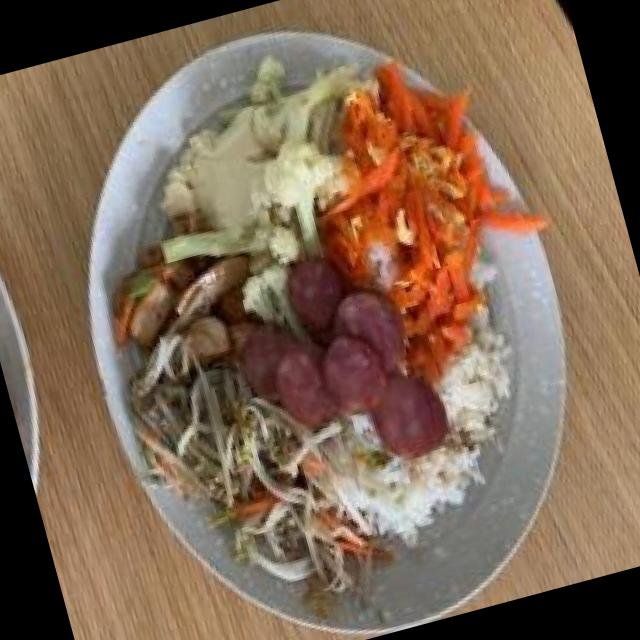carrot_eggs: (322, 59, 509, 298)
chinese_sausage: (224, 234, 455, 493)
mung_bean_sprouts: (117, 310, 347, 608)
rice: (327, 394, 488, 546)
